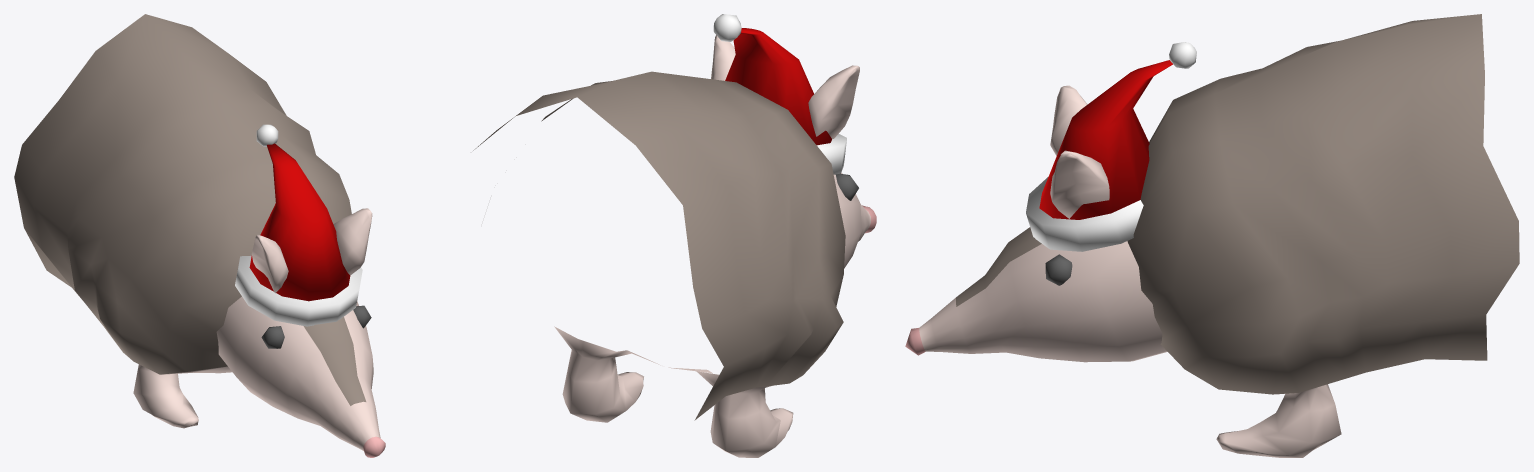
Rendered from armadillo.glb.
3 views of the same model, side by side, from view 1: azimuth 30°, elevation 25°; view 2: azimuth 150°, elevation 25°; view 3: azimuth 270°, elevation 25° (orthographic). The views are drawn at different scales.
Visible parts, largest first — view 1: node-0, node_MeshObject-1837019968-PolyPaper21; view 2: node-0, node_MeshObject-1837019968-PolyPaper21; view 3: node-0, node_MeshObject-1837019968-PolyPaper21.
Part boxes in pixels (x1=…): node-0: x1=14, y1=14, x2=385, y2=457; node_MeshObject-1837019968-PolyPaper21: x1=235, y1=124, x2=362, y2=326; node-0: x1=473, y1=35, x2=876, y2=457; node_MeshObject-1837019968-PolyPaper21: x1=713, y1=14, x2=846, y2=174; node-0: x1=905, y1=14, x2=1519, y2=457; node_MeshObject-1837019968-PolyPaper21: x1=1026, y1=42, x2=1196, y2=251.
Size of the model in its own units: 0.3416 by 0.4112 by 0.5721.
